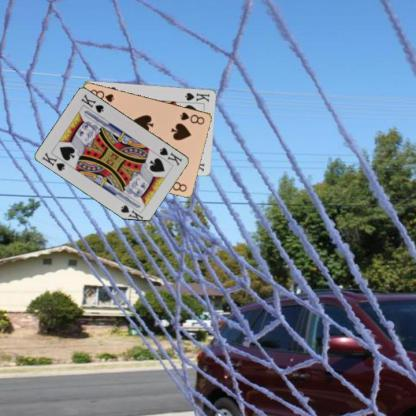8s: (177, 110, 206, 126)
Ks: (157, 145, 184, 167), (40, 150, 66, 172), (182, 89, 211, 103)
